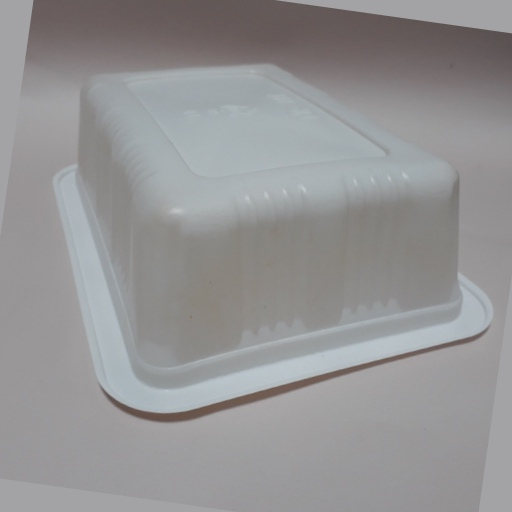Plastic_4: (52, 59, 496, 419)
